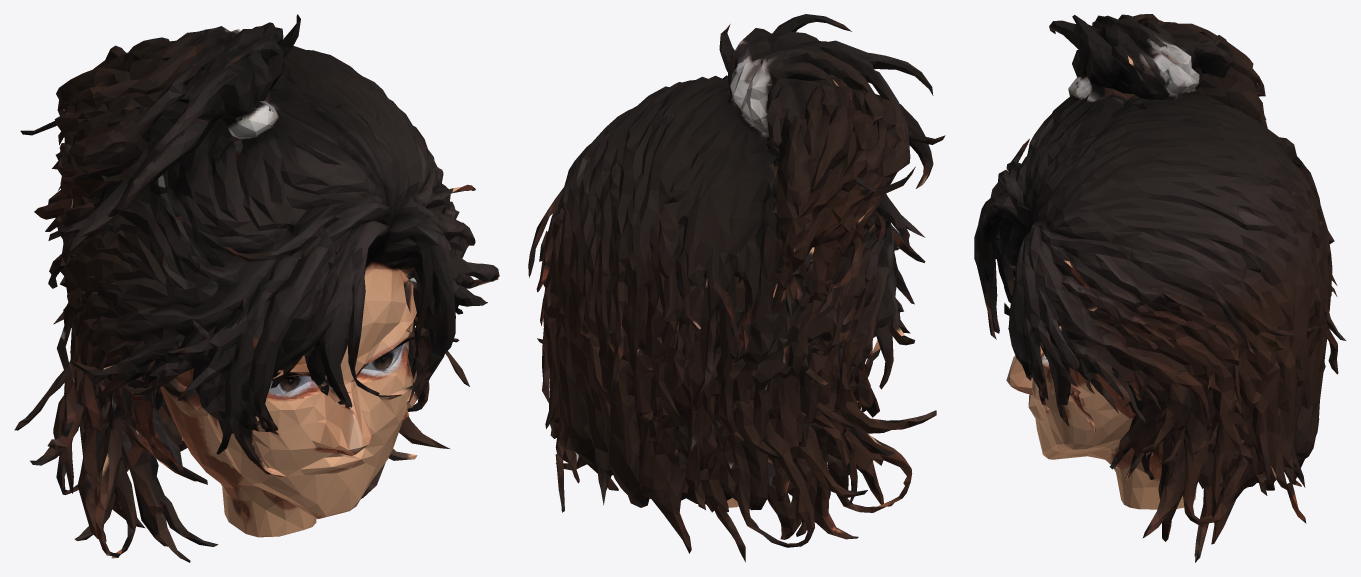
File: side_kanemori_repaired_atlas.glb
3 renders of one model, left to right at view 1: azimuth 30°, elevation 25°; view 2: azimuth 150°, elevation 25°; view 3: azimuth 270°, elevation 25°, orthographic. The views are drawn at different scales.
Parts seen in each view (by area): view 1: temp_mesh.ply; view 2: temp_mesh.ply; view 3: temp_mesh.ply.
Boxes of the visible parts, x1,y1,x2,y2 form: temp_mesh.ply: (14,14,499,562); temp_mesh.ply: (528,14,945,562); temp_mesh.ply: (974,14,1345,562).
Size of the model in its own units: 1.71 by 1.97 by 1.45.
1 material, 1 textured.
